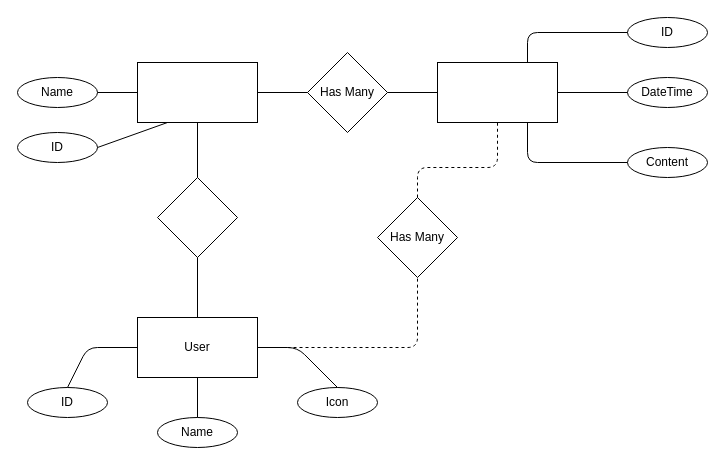
Image size: 725x465. Some labels were removed from this diagram. The centre of each missing label's shape, as x and y in pixels:
"Chatroom" belongs at point 197,92.
"Manages" belongs at point 197,217.
"Messages" belongs at point 497,92.
